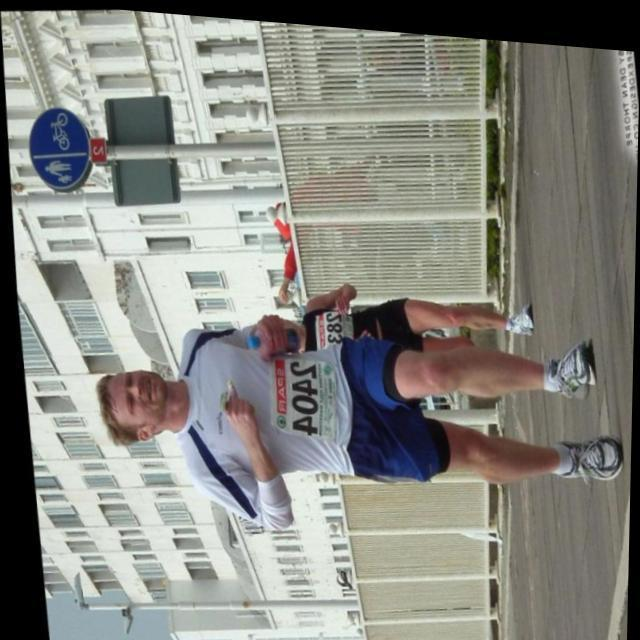dorsal: (255, 340, 342, 457), (304, 305, 349, 350)
